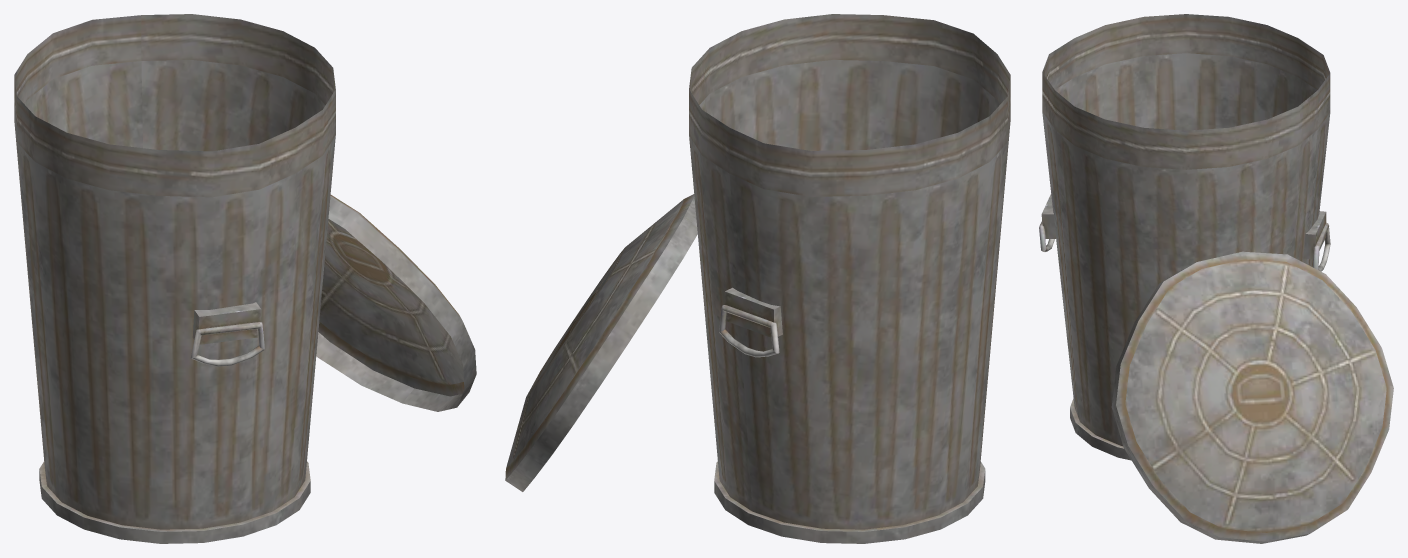
Rendered from p_trash_can.glb.
3 renders of one model, left to right at view 1: azimuth 30°, elevation 25°; view 2: azimuth 150°, elevation 25°; view 3: azimuth 270°, elevation 25°, orthographic. The views are drawn at different scales.
Parts seen in each view (by area): view 1: Object_2; view 2: Object_2; view 3: Object_2.
Boxes of the visible parts, bbox=[...] form: Object_2: bbox=[14, 14, 476, 543]; Object_2: bbox=[505, 14, 1010, 543]; Object_2: bbox=[1039, 14, 1393, 543].
Bounding box in the file's own units: 0.9713 × 0.8963 × 0.8039.
Materials: 1 (1 with a texture image).
